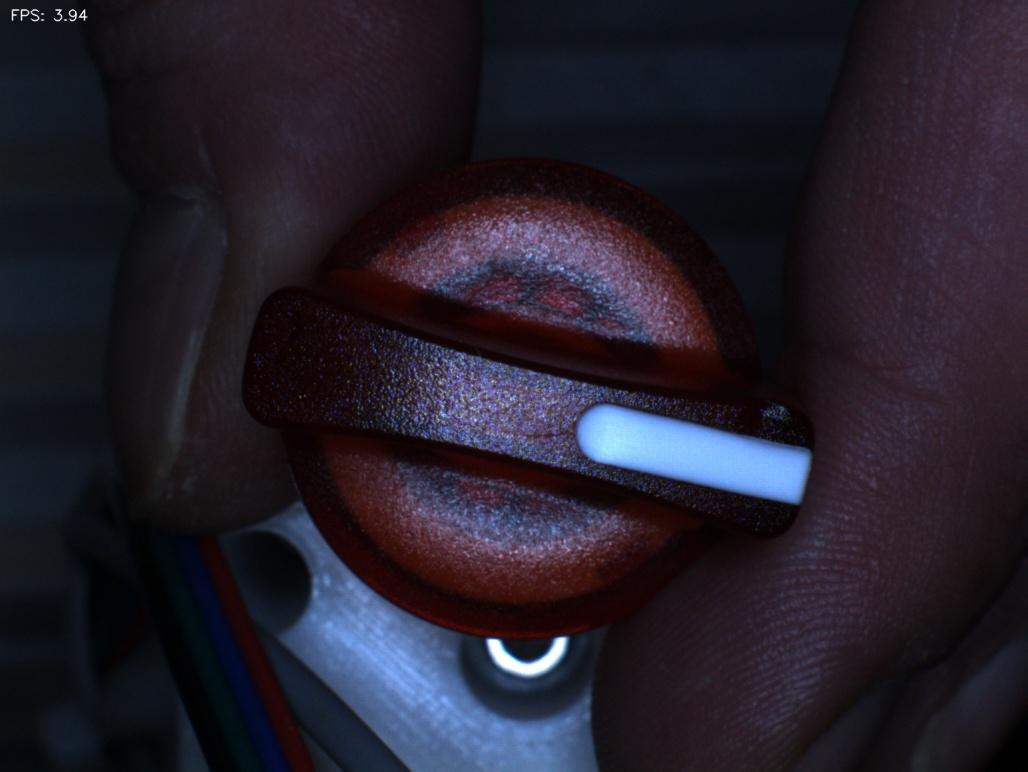Choc: (733, 371, 811, 452)
